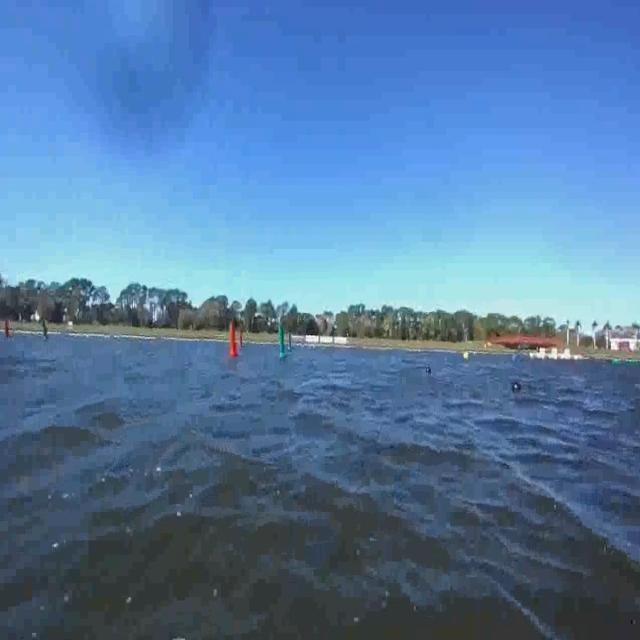black-buoy: (512, 381, 522, 394), (428, 364, 433, 378)
green-buoy: (614, 358, 620, 367)
green-column-buoy: (278, 327, 289, 359), (40, 317, 50, 341)
red-column-buoy: (228, 324, 238, 359), (4, 319, 12, 342), (240, 331, 246, 348)
yellow-buoy: (462, 350, 470, 362)
